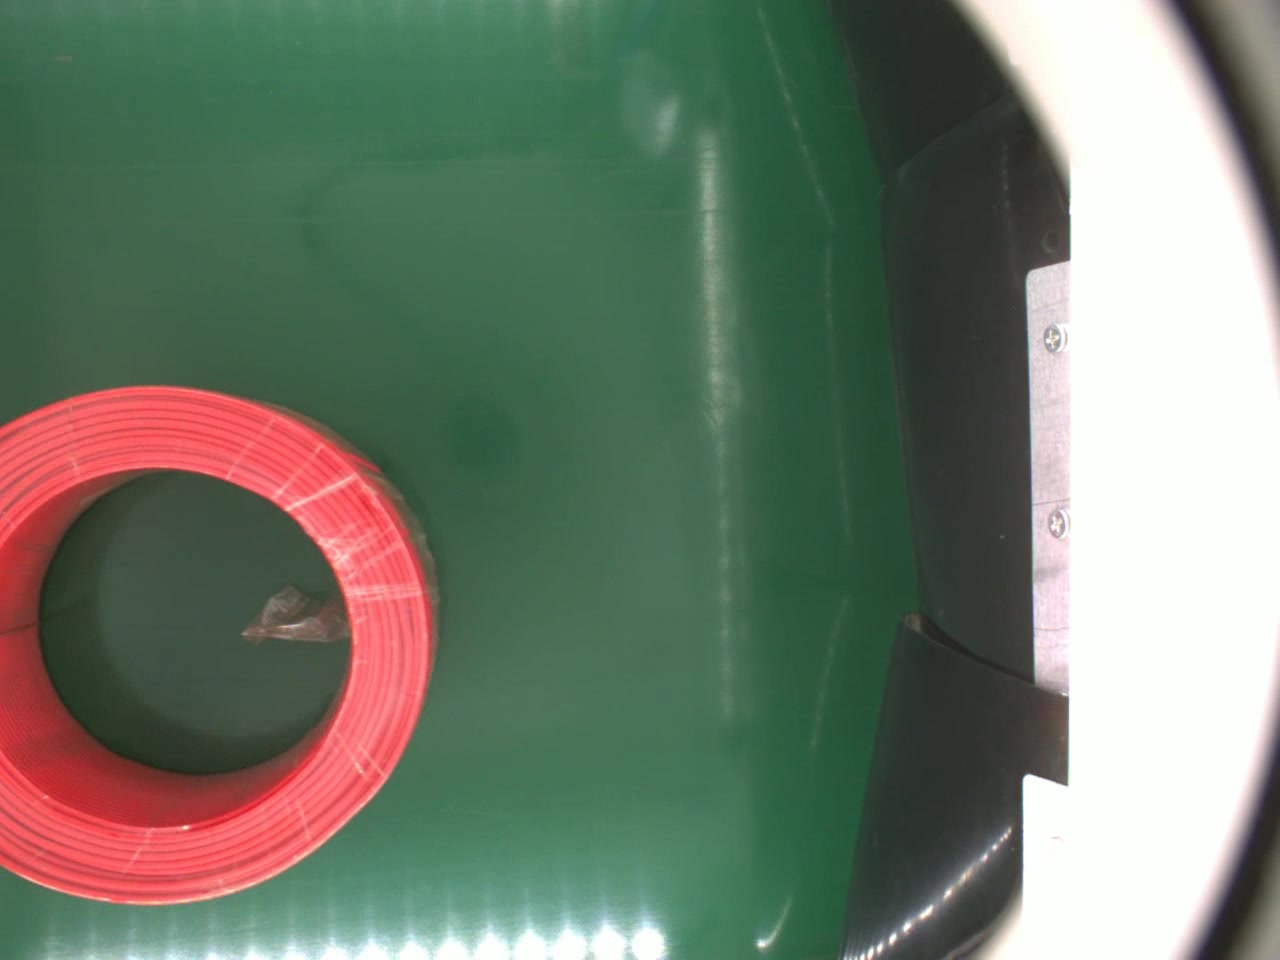red: (0, 383, 445, 910)
